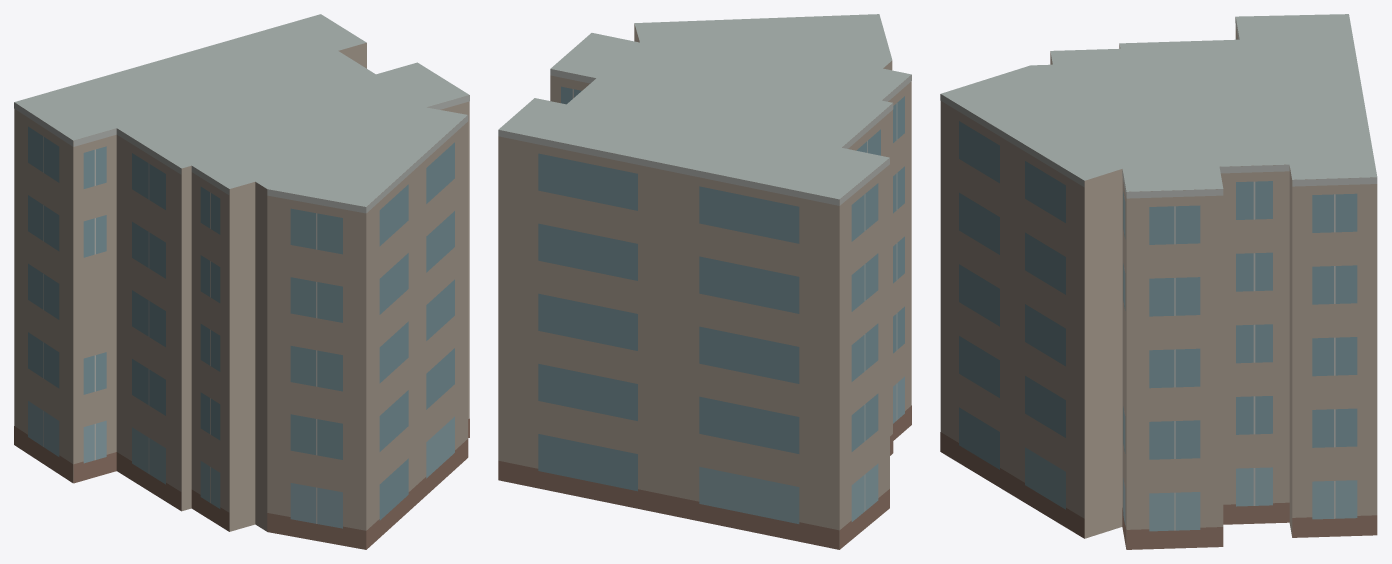
File: survey-upis-32615306.glb
3 renders of one model, left to right at view 1: azimuth 30°, elevation 25°; view 2: azimuth 150°, elevation 25°; view 3: azimuth 270°, elevation 25°, orthographic. The views are drawn at different scales.
Visible parts, largest first — view 1: survey-upis-32615306.tmp; view 2: survey-upis-32615306.tmp; view 3: survey-upis-32615306.tmp.
Boxes of the visible parts, x1=… form: survey-upis-32615306.tmp: x1=14, y1=14, x2=469, y2=549; survey-upis-32615306.tmp: x1=498, y1=14, x2=911, y2=549; survey-upis-32615306.tmp: x1=940, y1=14, x2=1377, y2=549.
Size of the model in its own units: 13.86 by 13 by 14.39.
